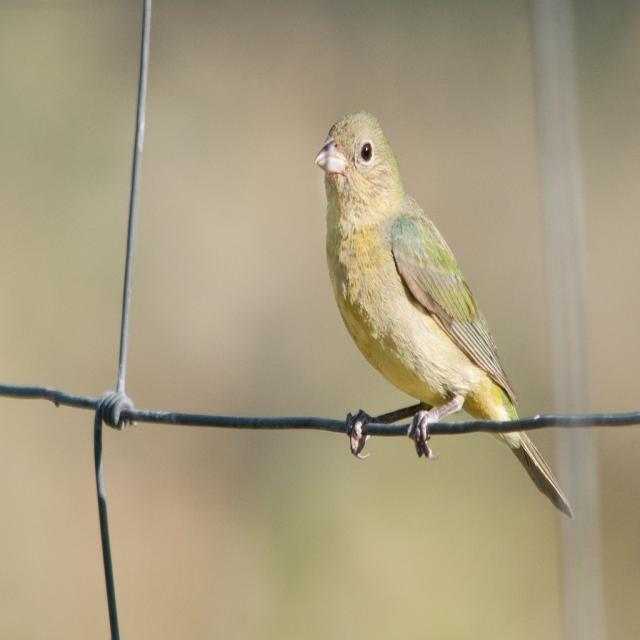bird: (309, 104, 576, 531)
